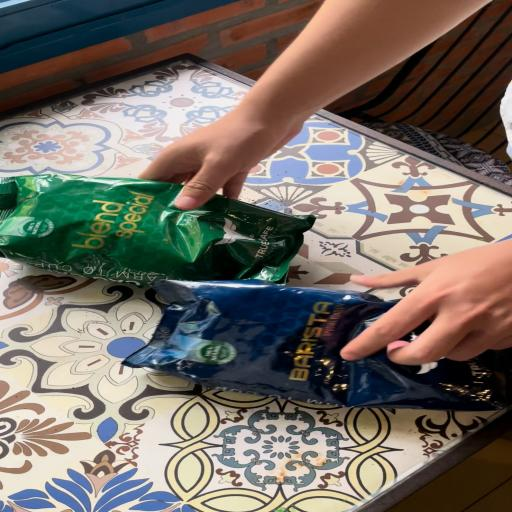cafe_hat: (123, 280, 512, 411)
cafe_xay: (0, 174, 314, 285)
